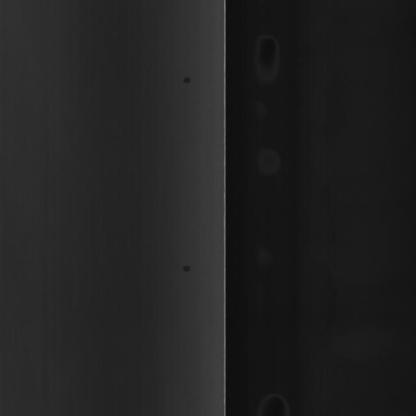oil_spot: (180, 261, 202, 284), (179, 67, 192, 95)
